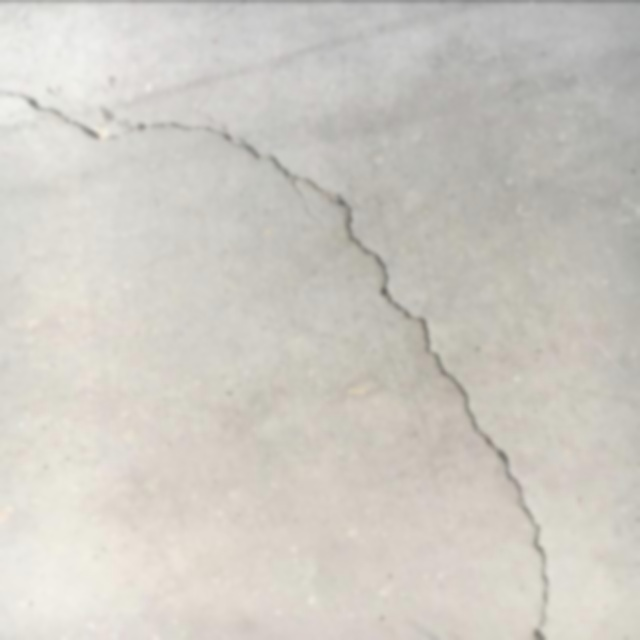SurfaceCrack: (1, 67, 621, 638)
